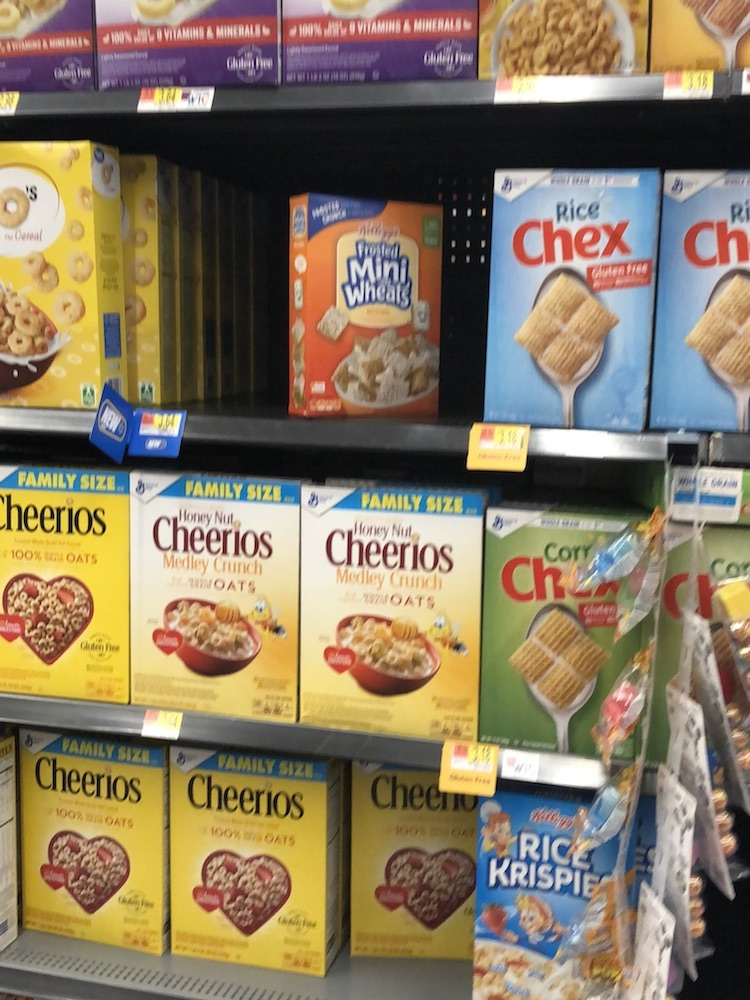Frosted Mini Original -9295869: (281, 196, 444, 407)
